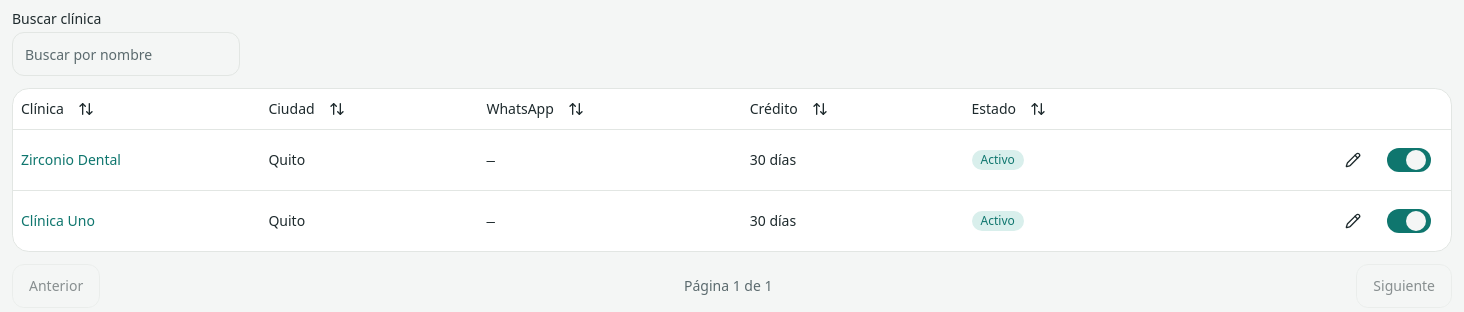
ClinicsTable › muestra un estado vacío cuando ninguna clínica coincide con la búsqueda
In the search field labelled "Buscar clínica": (126, 54) [12,32,240,76], type "no existe"
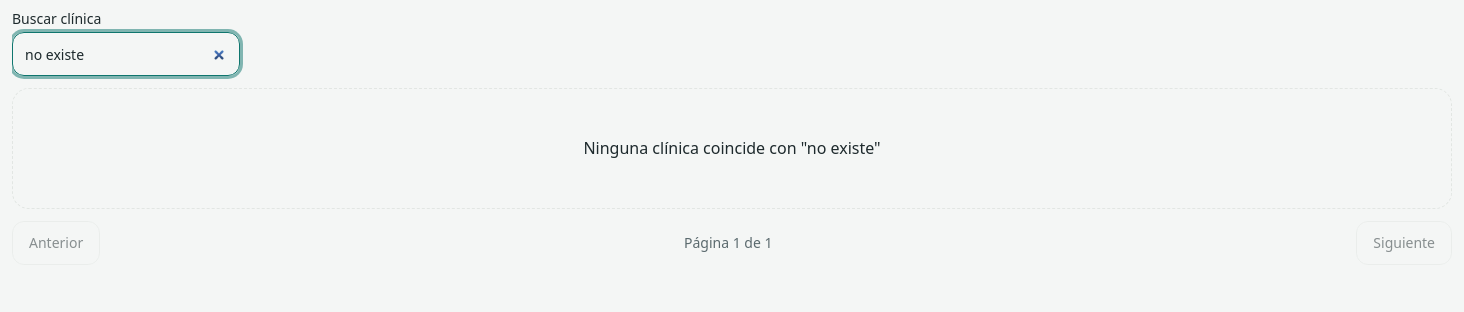
Check: the text "Ninguna clínica coincide con \"no existe\"" is shown, box [583,137,881,160]
